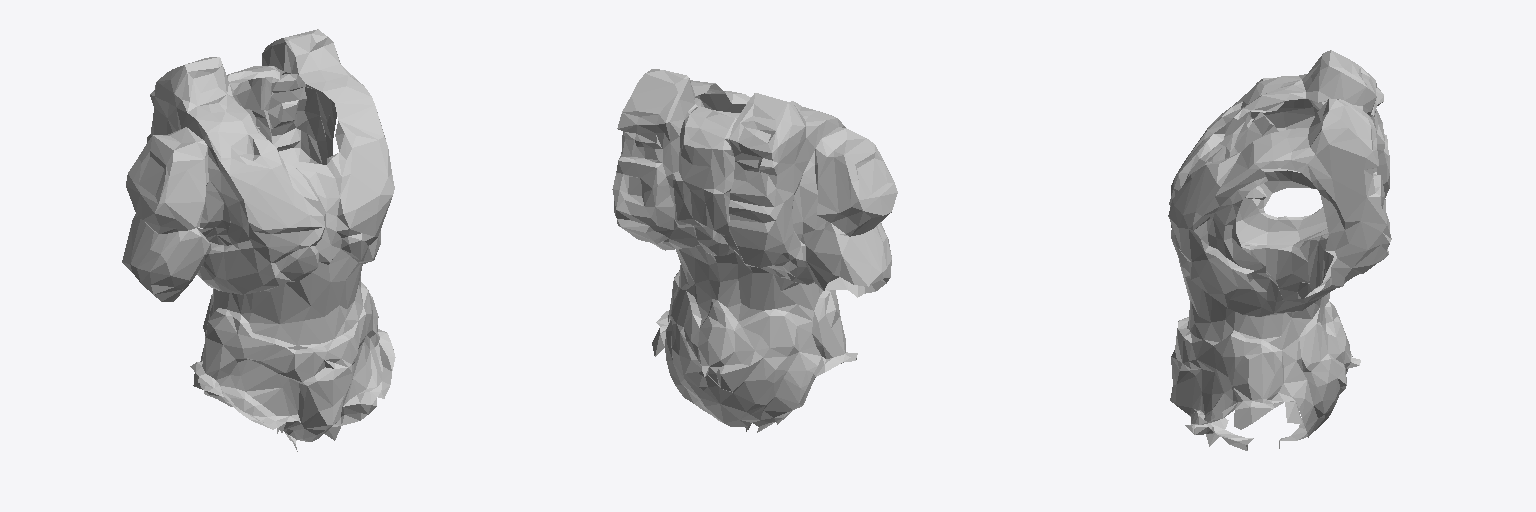
Rendered from Torso.obj.
3 views of the same model, side by side, from view 1: azimuth 30°, elevation 25°; view 2: azimuth 150°, elevation 25°; view 3: azimuth 270°, elevation 25° (orthographic).
Parts seen in each view (by area): view 1: Torso; view 2: Torso; view 3: Torso.
Boxes of the visible parts, box(x1,y1,x2,y2) form: Torso: box(122, 29, 395, 451); Torso: box(612, 69, 897, 432); Torso: box(1168, 50, 1391, 450).
Bounding box in the file's own units: 0.6298 × 0.9269 × 0.5084.